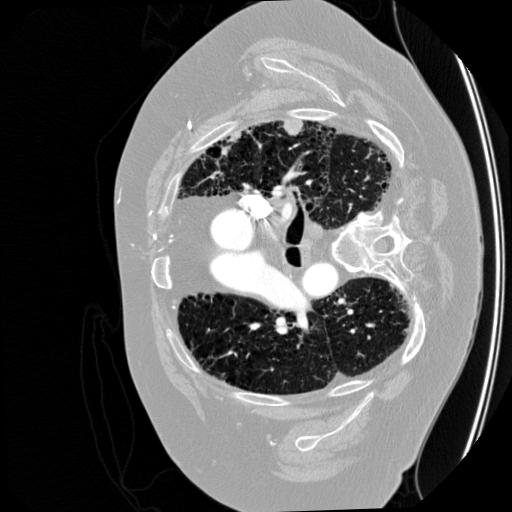nodule: (280, 112, 304, 136)
